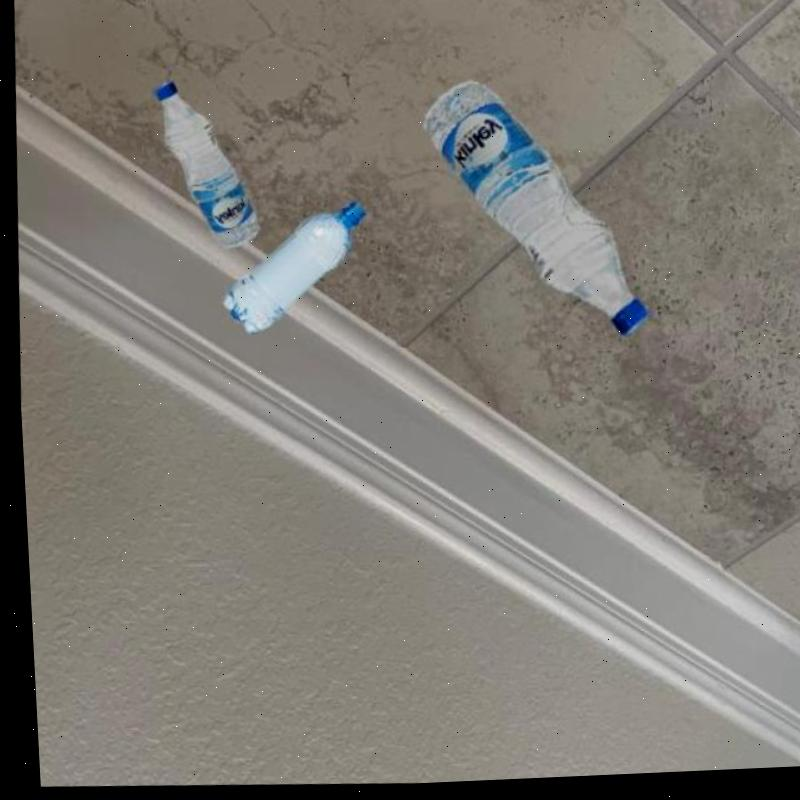botella: (410, 76, 653, 347), (210, 194, 371, 342), (145, 79, 263, 255)
